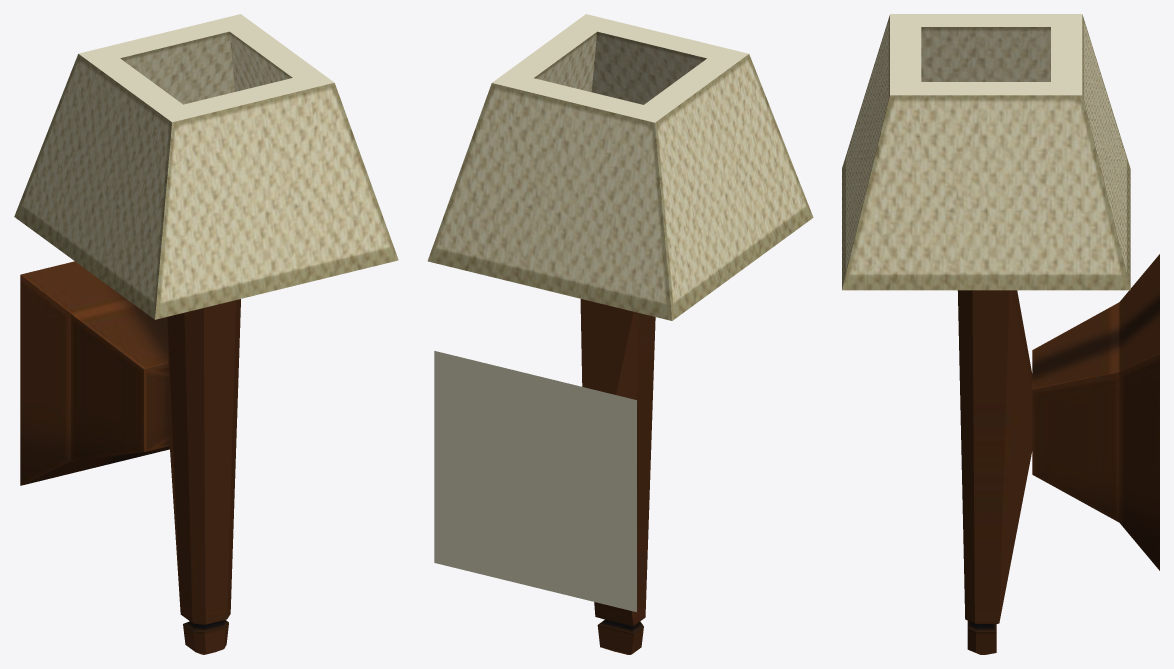
Rendered from lamp.glb.
The picture shows the model from 3 angles, left to right: view 1: azimuth 30°, elevation 25°; view 2: azimuth 150°, elevation 25°; view 3: azimuth 270°, elevation 25°; orthographic projection. The views are drawn at different scales.
Parts seen in each view (by area): view 1: Wall_Lamp; view 2: Wall_Lamp; view 3: Wall_Lamp.
Part boxes in pixels (bbox=[...]): Wall_Lamp: bbox=[14, 14, 398, 654]; Wall_Lamp: bbox=[427, 14, 813, 654]; Wall_Lamp: bbox=[842, 14, 1159, 654].
Bounding box in the file's own units: 14015 × 32011 × 15447.
1 material, 1 textured.
